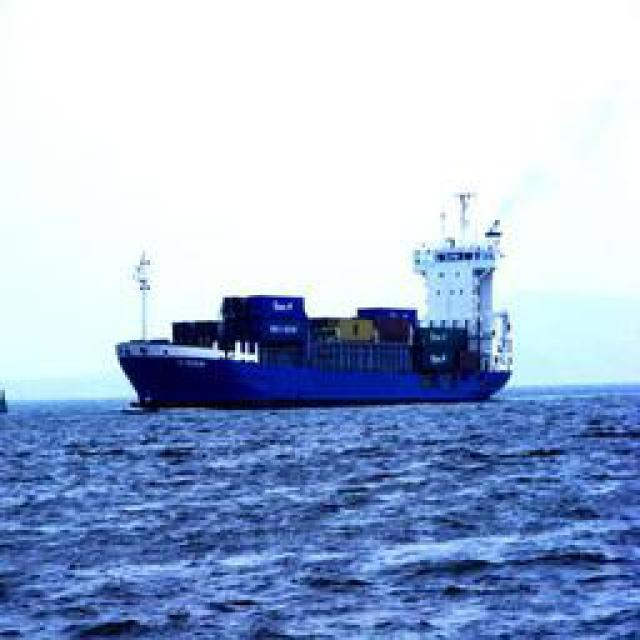Ship: (115, 228, 518, 406)
